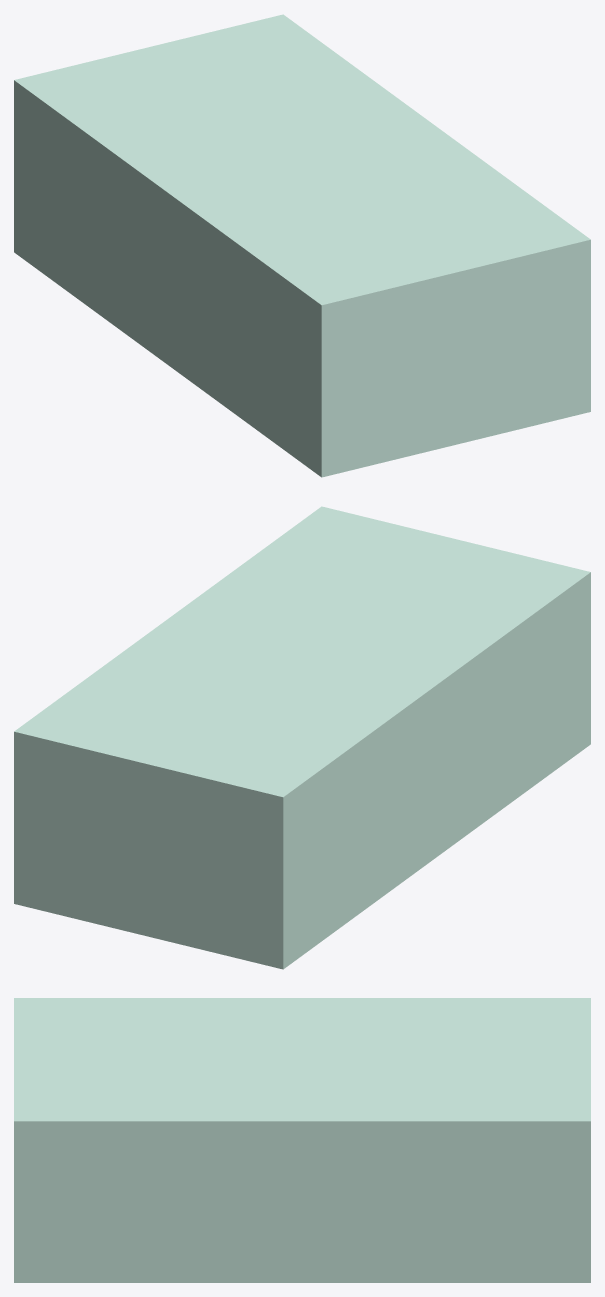
The picture shows the model from 3 angles, top to bottom: view 1: azimuth 30°, elevation 25°; view 2: azimuth 150°, elevation 25°; view 3: azimuth 270°, elevation 25°; orthographic projection. The views are drawn at different scales.
Visible parts, largest first — view 1: Renderer Node; view 2: Renderer Node; view 3: Renderer Node.
Boxes of the visible parts, left/top/right/bottom form: Renderer Node: left=14, top=14, right=590, bottom=477; Renderer Node: left=14, top=506, right=590, bottom=969; Renderer Node: left=14, top=998, right=590, bottom=1282.
Bounding box in the file's own units: 0.5368 × 0.3281 × 1.06.
